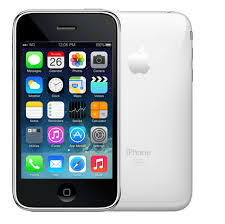iphone4: (8, 6, 195, 213), (8, 7, 123, 210)
